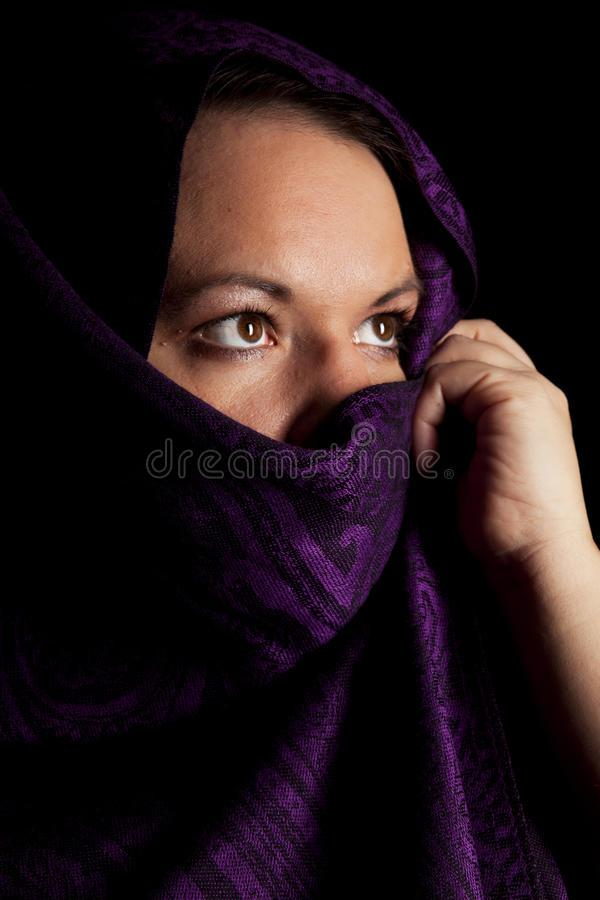No Mask: (67, 52, 510, 704)
